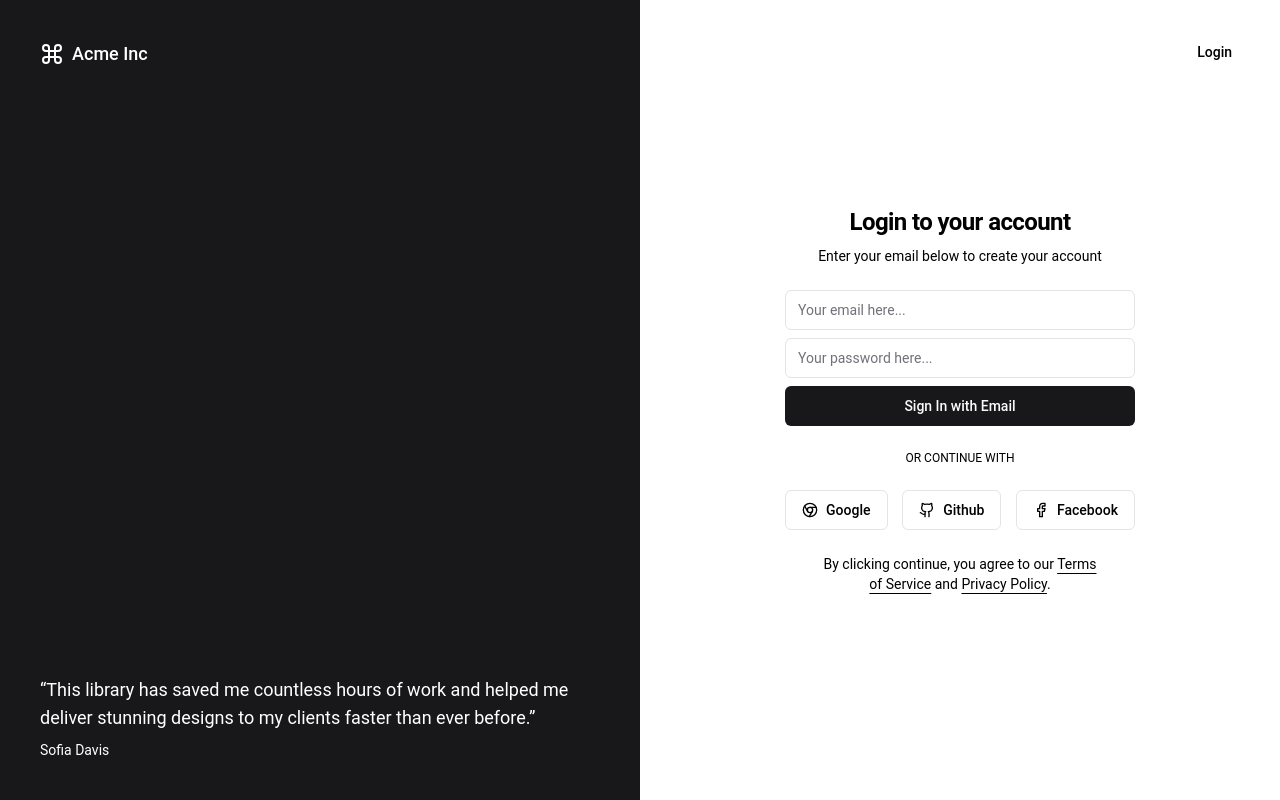
Test case: Login Page › should displays error messages for required form
What coordinates should you click on to do the following:
click the button "Sign In with Email"
I would click on:
 (960, 406)
Its box is [785,386,1135,426].
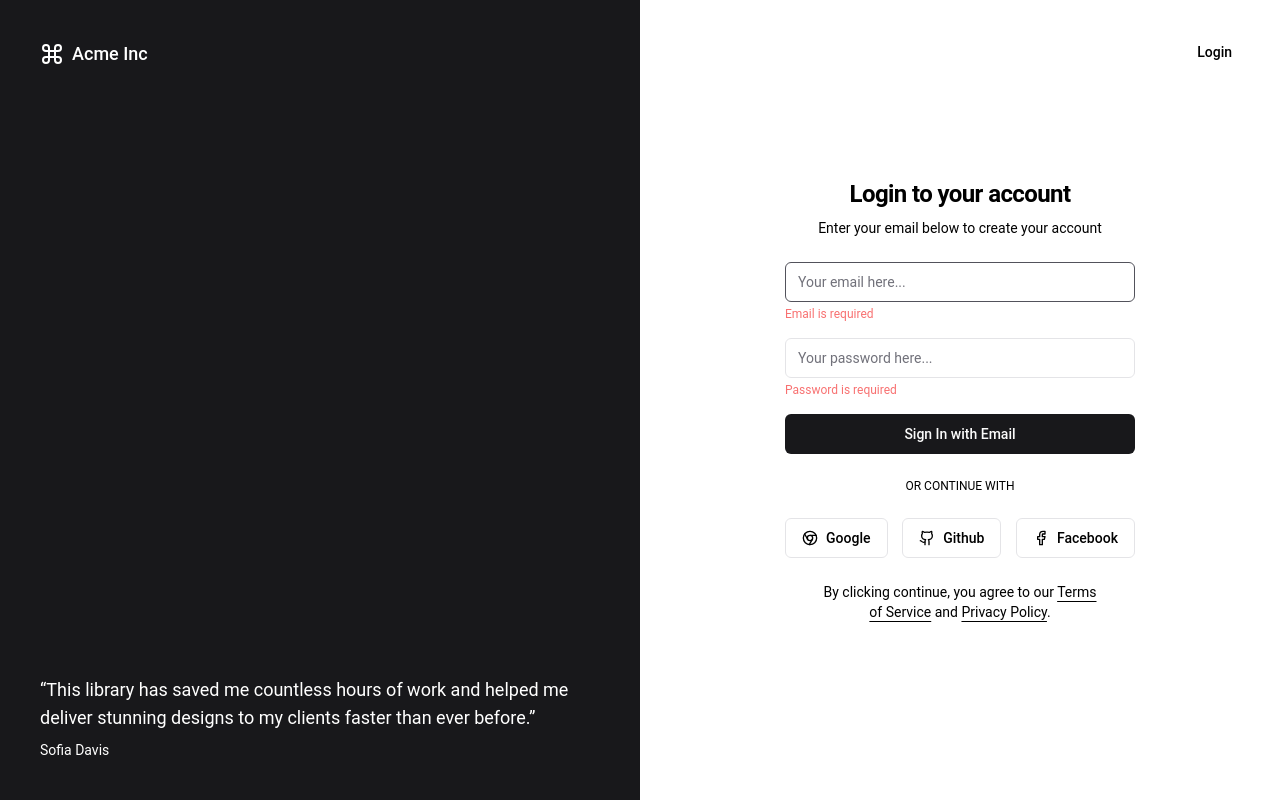
Result: the text "Password is required" is shown at [785,383,897,397]
Result: the text "Email is required" is shown at [785,307,874,321]
